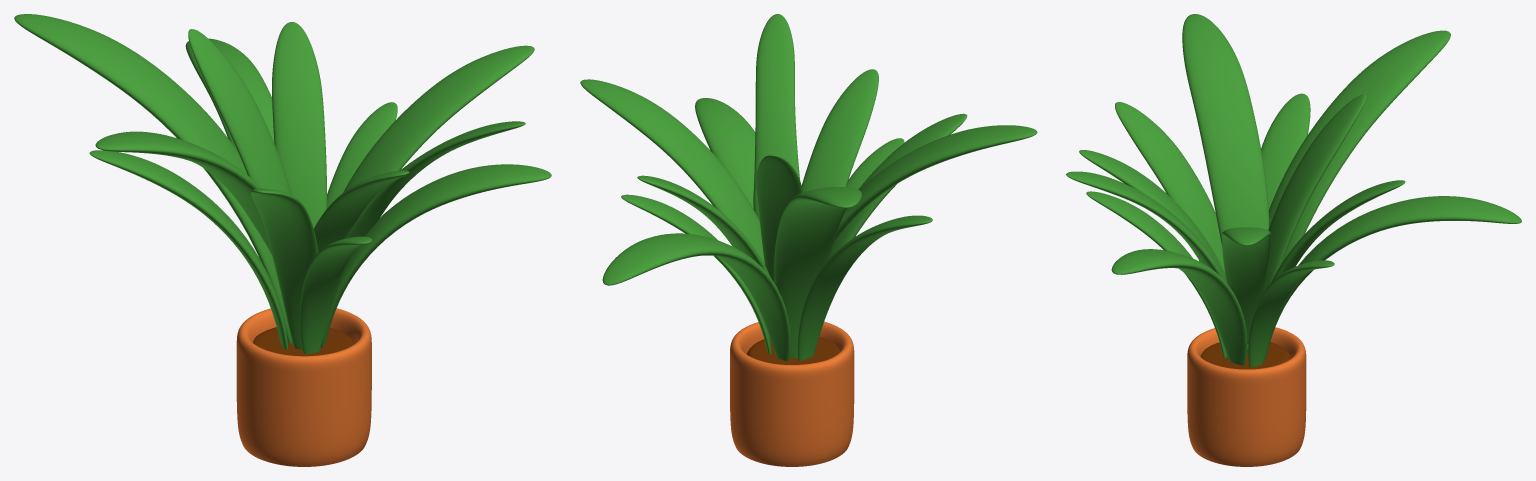
The model's file is planta_simpla.fbx.
3 renders of one model, left to right at view 1: azimuth 30°, elevation 25°; view 2: azimuth 150°, elevation 25°; view 3: azimuth 270°, elevation 25°, orthographic. The views are drawn at different scales.
Visible parts, largest first — view 1: Cylinder.001, Cube.001, Cube.006, Cube, Cube.007, Cube.008, Cube.002, Cube.005, Cube.010, Cube.011, Cube.003, Cube.012 (+3 smaller); view 2: Cylinder.001, Cube, Cube.001, Cube.004, Cube.003, Cube.012, Cube.010, Cube.005, Cube.008, Cube.007, Cube.002, Cube.009 (+3 smaller); view 3: Cylinder.001, Cube.010, Cube.001, Cube.004, Cube.002, Cube.007, Cube.008, Cube, Cube.005, Cube.009, Cube.003, Cube.012 (+3 smaller).
Part boxes in pixels (bbox=[...]): Cylinder.001: bbox=[236, 308, 371, 466]; Cube.001: bbox=[14, 14, 292, 344]; Cube.006: bbox=[272, 22, 326, 228]; Cube: bbox=[343, 45, 534, 192]; Cube.007: bbox=[188, 29, 291, 194]; Cube.008: bbox=[320, 164, 551, 347]; Cube.002: bbox=[250, 188, 318, 349]; Cube.005: bbox=[89, 150, 287, 349]; Cube.010: bbox=[95, 131, 272, 255]; Cube.011: bbox=[300, 236, 372, 353]; Cube.003: bbox=[344, 121, 525, 238]; Cube.012: bbox=[314, 170, 409, 252]; Cylinder.001: bbox=[730, 321, 854, 466]; Cube: bbox=[580, 79, 764, 264]; Cube.001: bbox=[774, 187, 862, 358]; Cube.004: bbox=[602, 233, 790, 361]; Cube.003: bbox=[753, 14, 799, 220]; Cube.012: bbox=[801, 69, 878, 191]; Cube.010: bbox=[789, 125, 1037, 331]; Cube.005: bbox=[797, 215, 932, 360]; Cube.008: bbox=[695, 98, 755, 208]; Cube.007: bbox=[756, 154, 802, 282]; Cube.002: bbox=[829, 113, 967, 258]; Cube.009: bbox=[621, 194, 771, 354]; Cylinder.001: bbox=[1187, 327, 1306, 466]; Cube.010: bbox=[1182, 14, 1269, 354]; Cube.001: bbox=[1268, 30, 1450, 262]; Cube.004: bbox=[1264, 196, 1521, 359]; Cube.002: bbox=[1115, 102, 1225, 273]; Cube.007: bbox=[1265, 94, 1365, 289]; Cube.008: bbox=[1111, 249, 1247, 365]; Cube: bbox=[1222, 227, 1271, 344]; Cube.005: bbox=[1261, 93, 1310, 210]; Cube.009: bbox=[1248, 260, 1334, 367]; Cube.003: bbox=[1066, 171, 1227, 283]; Cube.012: bbox=[1079, 150, 1226, 280].
Bounding box in the file's own units: 1921 × 1512 × 1848.
